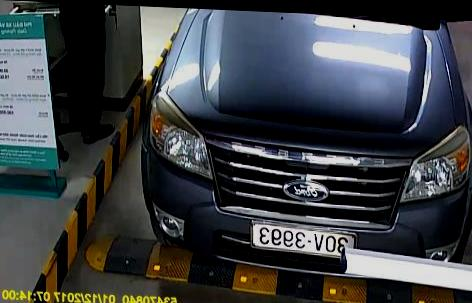License_Plate: (248, 224, 360, 254)
